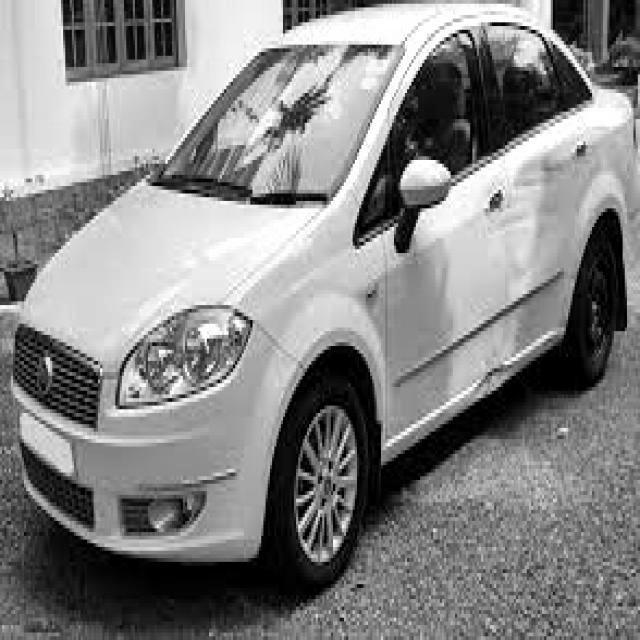doorouter-dent: (343, 161, 530, 432)
